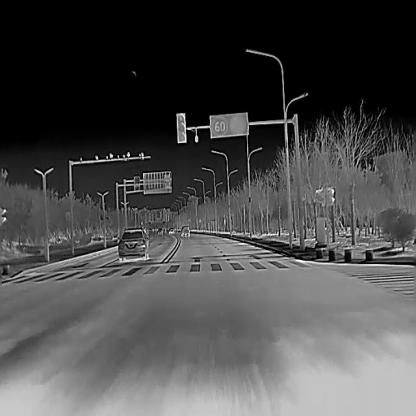car: (117, 227, 148, 261), (180, 225, 190, 237), (168, 227, 174, 234), (156, 227, 162, 233)
